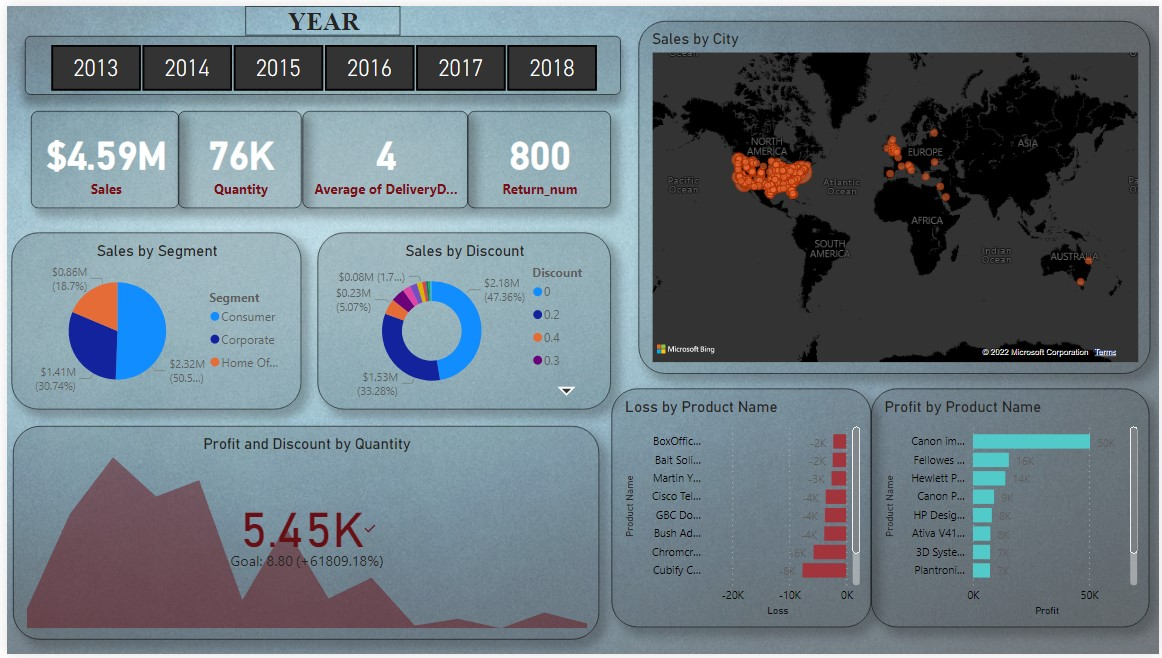

What the dashboard file says about the page in this screenshot:
{"tool":"powerbi","page":{"name":"Page 1","canvas":[1280,720],"ordinal":0},"visuals":[{"type":"card","fields":{"Values":["Sum(Order.Sales)"]},"box":[26.5,117.4,164.7,107.9],"z":0},{"type":"card","fields":{"Values":["Sum(Order.Quantity)"]},"box":[190.5,117.1,137.4,107.8],"z":1000},{"type":"card","fields":{"Values":["Avg(Order.DeliveryDays)"]},"box":[327.6,117.4,183.7,107.9],"z":2000},{"type":"map","fields":{"Category":["Order.City"],"Size":["Sum(Order.Sales)"]},"box":[701.3,17.2,568.5,392],"z":3000},{"type":"slicer","fields":{"Values":["Order.Year"]},"box":[20.3,32.8,662.2,65.6],"z":4000},{"type":"card","fields":{"Values":["Sum(Returns.Return_num)"]},"box":[511.2,117.4,159.1,107.9],"z":5000},{"type":"clusteredBarChart","fields":{"Category":["Order.Product Name"],"Y":["Sum(Order.Profit)"]},"box":[960.5,424.8,309.2,265.5],"z":6000},{"type":"clusteredBarChart","fields":{"Category":["Order.Product Name"],"Y":["Sum(Order.Profit)"]},"box":[671.6,424.8,288.9,265.5],"z":7000},{"type":"pieChart","fields":{"Category":["Order.Segment"],"Y":["Sum(Order.Sales)"]},"box":[5.7,251.8,321.9,196.9],"z":8000},{"type":"donutChart","fields":{"Y":["Sum(Order.Sales)"],"Category":["Order.Discount"]},"box":[344.6,251.8,325.7,196.9],"z":9000},{"type":"kpi","fields":{"TrendLine":["Order.Quantity"],"Indicator":["Sum(Order.Profit)"],"Goal":["Sum(Order.Discount)"]},"box":[6.2,467,651.3,237.4],"z":10000},{"type":"shape","title":"YEAR","box":[265.5,0,171.8,32.8],"z":12000}]}

Visuals, with their boxes in screenshot pixels (x1, y1, x2, y2), scaled from the page's 1280x720 canvas onto the 1162x658 screenshot:
card - Sum(Order.Sales): BBox(24, 107, 174, 206)
card - Sum(Order.Quantity): BBox(173, 107, 298, 206)
card - Avg(Order.DeliveryDays): BBox(297, 107, 464, 206)
map - Order.City x Sum(Order.Sales): BBox(637, 16, 1153, 374)
slicer - Order.Year: BBox(18, 30, 620, 90)
card - Sum(Returns.Return_num): BBox(464, 107, 609, 206)
clusteredBarChart - Order.Product Name x Sum(Order.Profit): BBox(872, 388, 1153, 631)
clusteredBarChart - Order.Product Name x Sum(Order.Profit): BBox(610, 388, 872, 631)
pieChart - Order.Segment x Sum(Order.Sales): BBox(5, 230, 297, 410)
donutChart - Sum(Order.Sales) x Order.Discount: BBox(313, 230, 609, 410)
kpi - Order.Quantity x Sum(Order.Profit): BBox(6, 427, 597, 644)
"YEAR" shape: BBox(241, 0, 397, 30)
